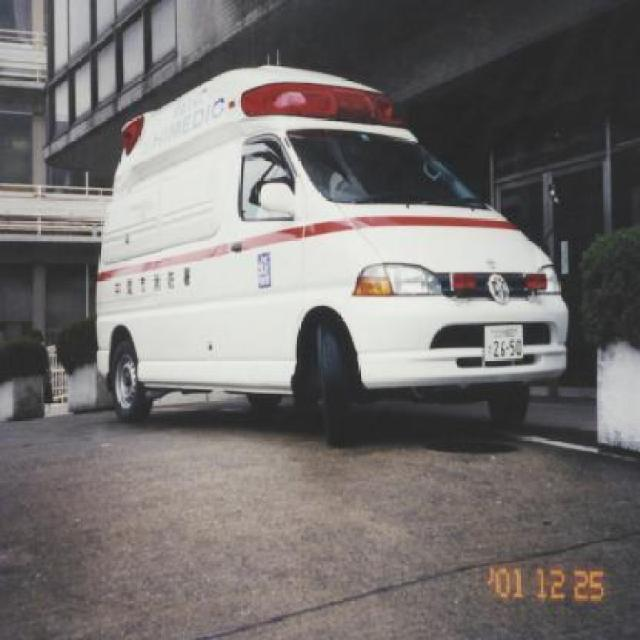emergency: (94, 56, 570, 444)
